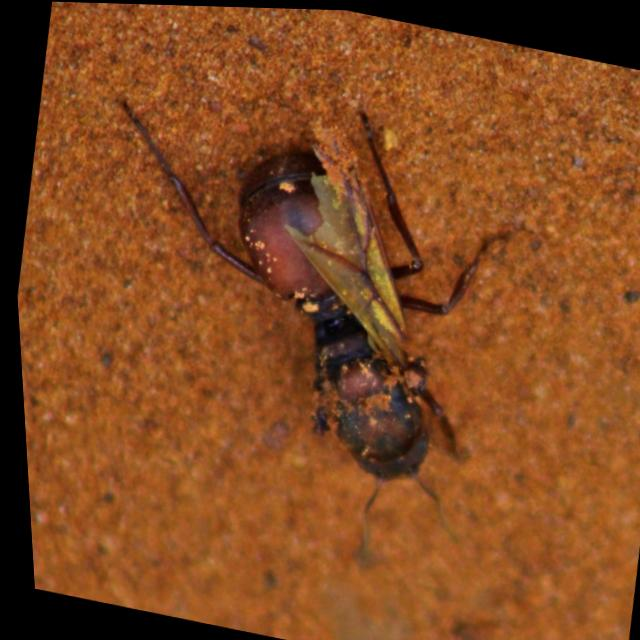Alive-Female-Alate: (40, 57, 554, 584)
